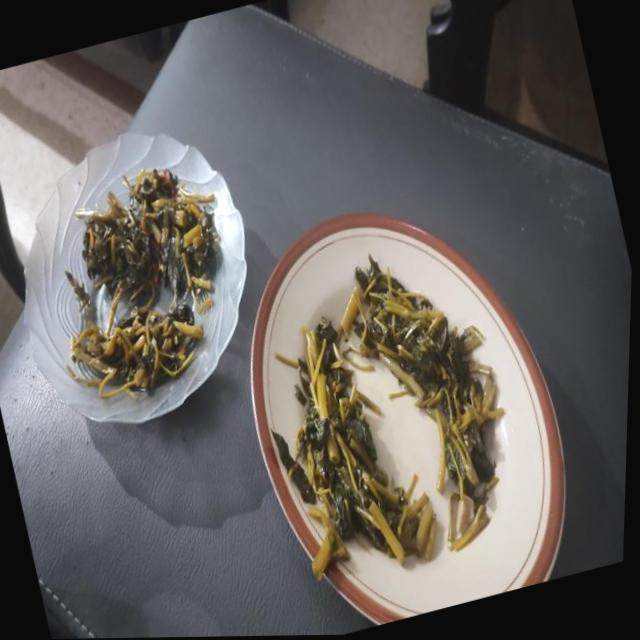tumis_kangkung: (272, 318, 434, 579), (354, 255, 504, 528), (77, 168, 218, 300), (72, 293, 202, 399)
